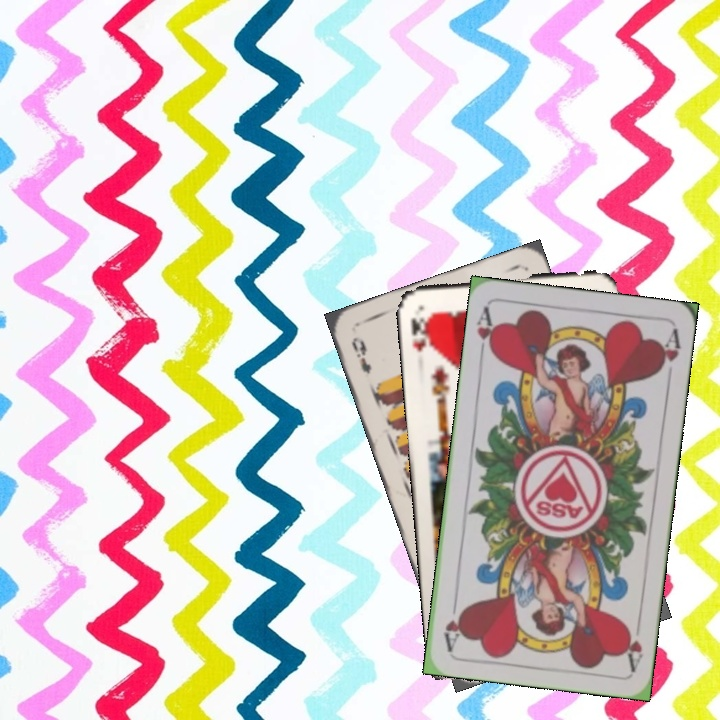E9: (347, 333, 375, 377)
HA: (473, 302, 500, 362), (619, 614, 646, 673)
HK: (407, 313, 434, 355)
